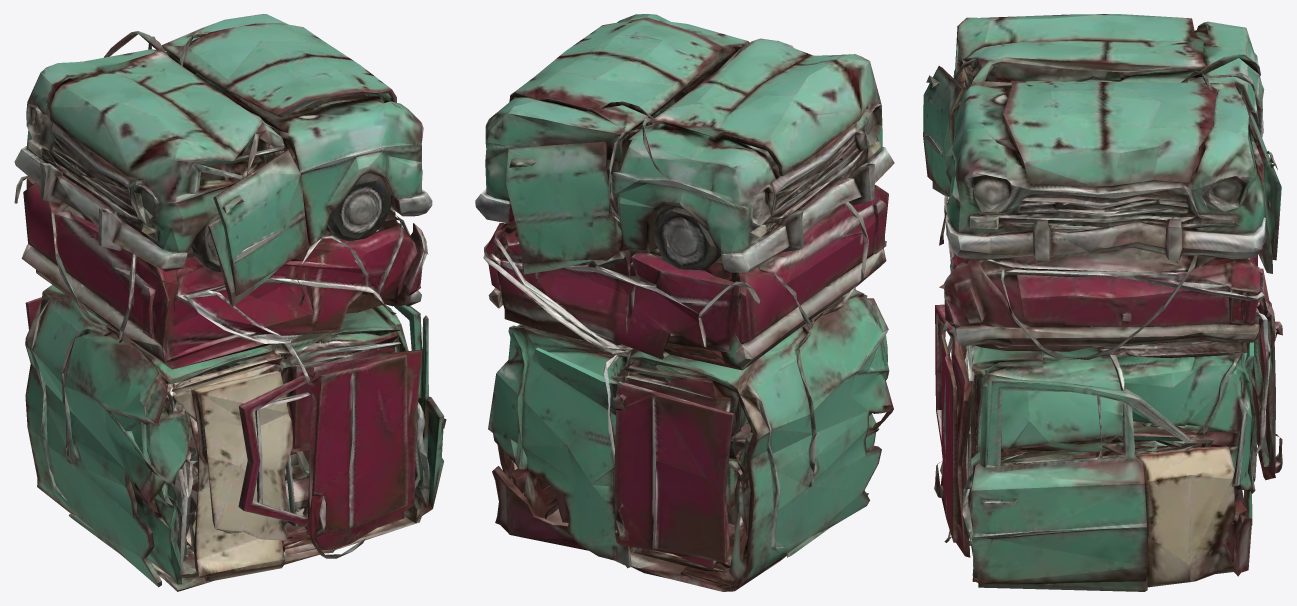
File: prop-carstack.glb
The picture shows the model from 3 angles, left to right: view 1: azimuth 30°, elevation 25°; view 2: azimuth 150°, elevation 25°; view 3: azimuth 270°, elevation 25°; orthographic projection. The views are drawn at different scales.
Size of the model in its own units: 1.4 by 1.9 by 1.33.
1 material, 1 textured.
